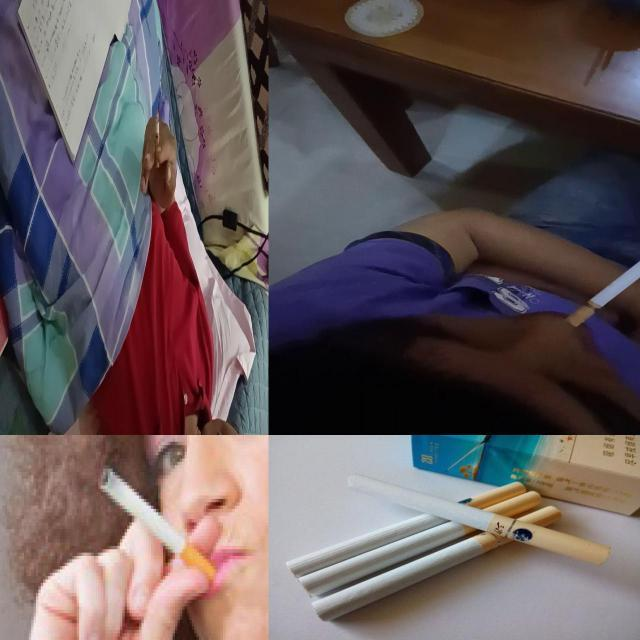smoke: (312, 505, 563, 621), (298, 490, 543, 598), (346, 472, 612, 566), (285, 482, 527, 578), (96, 465, 216, 585), (564, 260, 640, 328), (155, 109, 159, 169)
